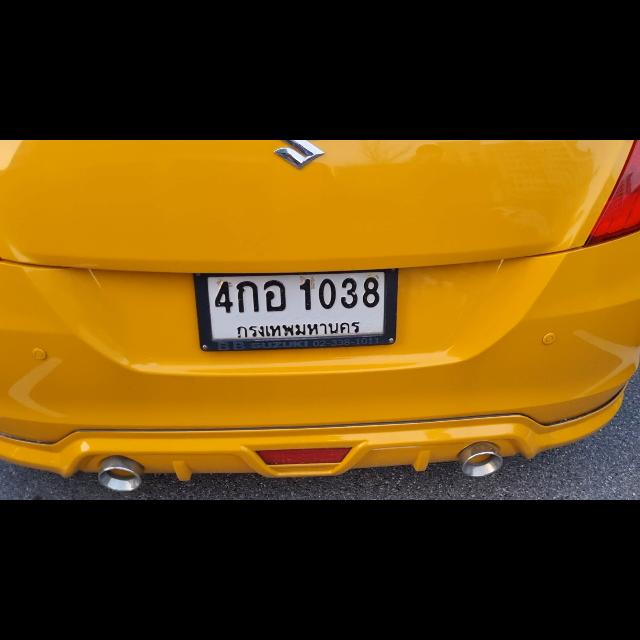licenseplate: (193, 268, 395, 352)
